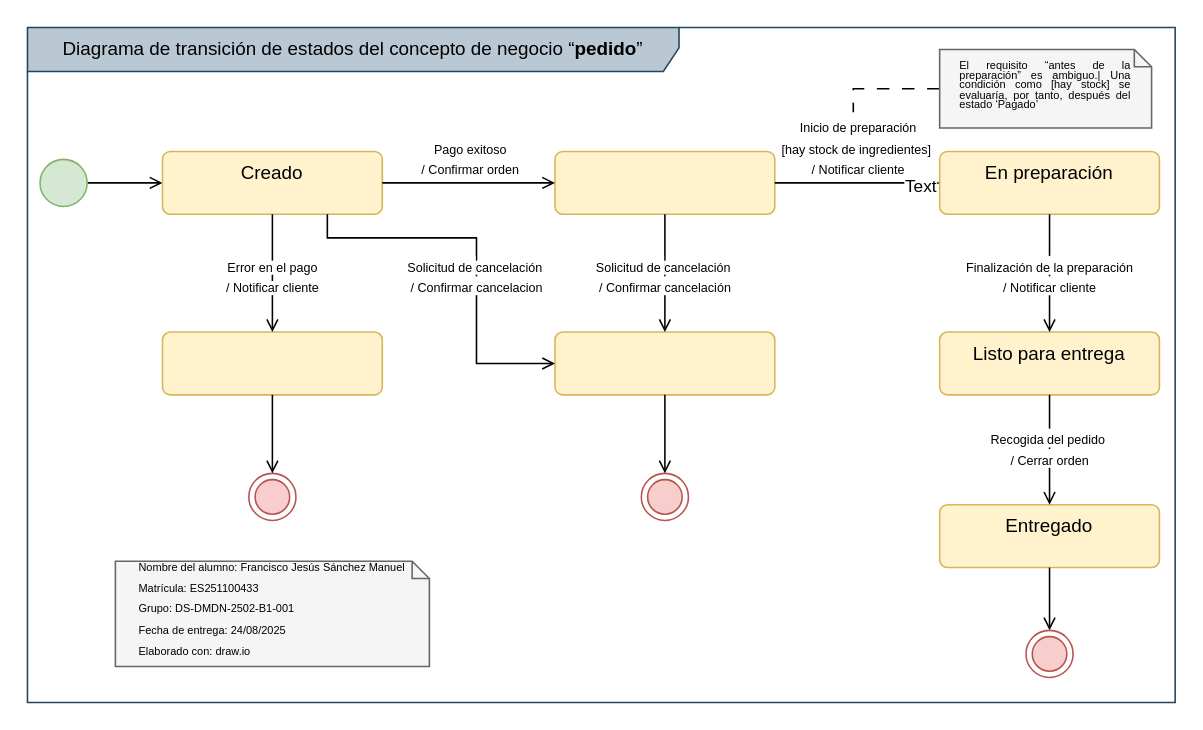
Some shapes in this 1203 by 730 pixel diagram are drawn without their labels. Each missing label, with the centre of its shape:
Cancelado: point 664,362
Fallido: point 271,362
Pagado: point 664,182
